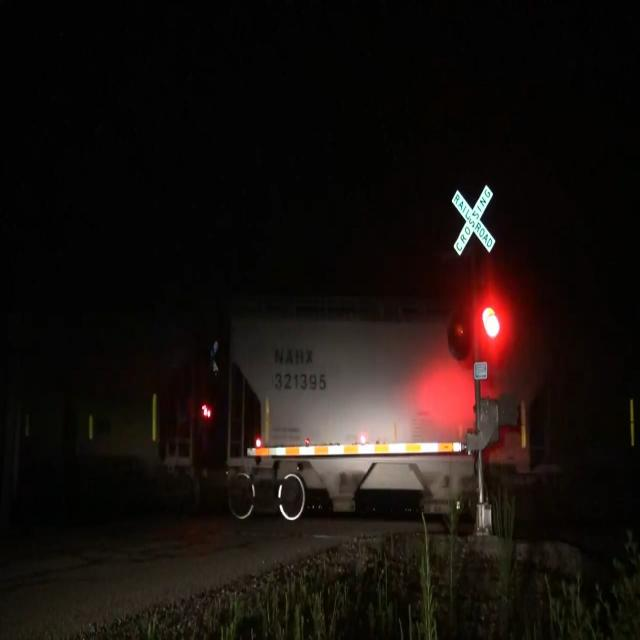hopper: (220, 273, 559, 550)
